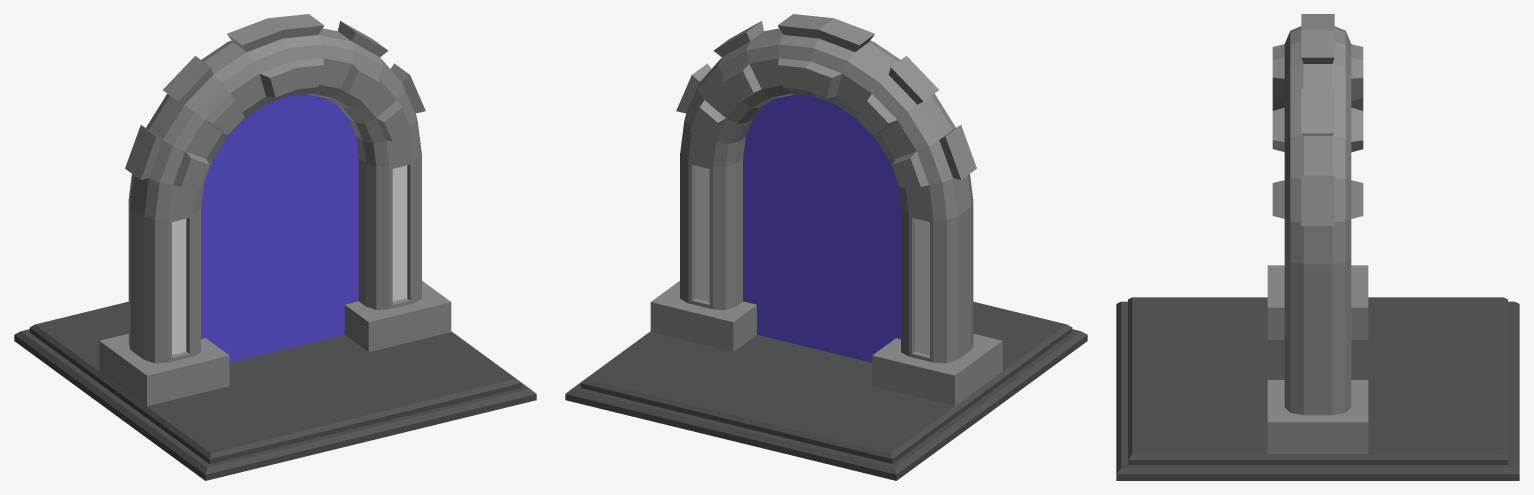
File: Portal.fbx
3 views of the same model, side by side, from view 1: azimuth 30°, elevation 25°; view 2: azimuth 150°, elevation 25°; view 3: azimuth 270°, elevation 25° (orthographic). The views are drawn at different scales.
Visible parts, largest first — view 1: Cube; view 2: Cube; view 3: Cube.
Part boxes in pixels (bbox=[...]): Cube: bbox=[14, 14, 536, 480]; Cube: bbox=[565, 14, 1087, 480]; Cube: bbox=[1116, 14, 1519, 480].
Bounding box in the file's own units: 1211 × 1210 × 1211.
